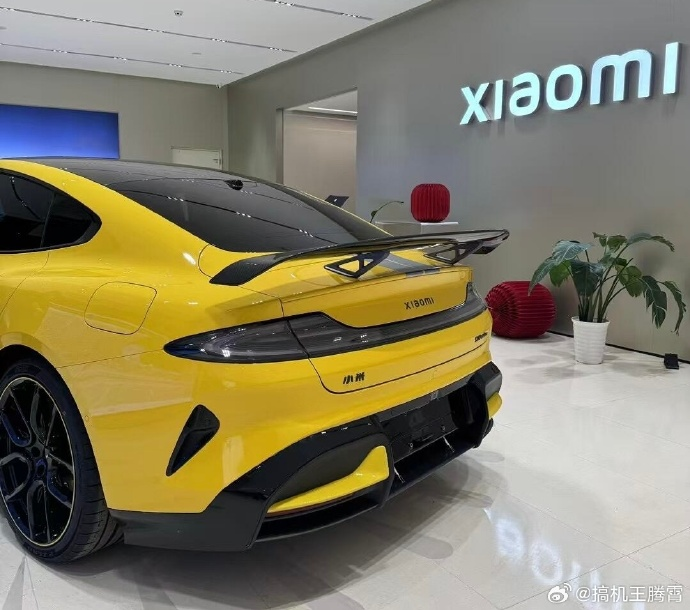su7: (0, 153, 510, 575)
